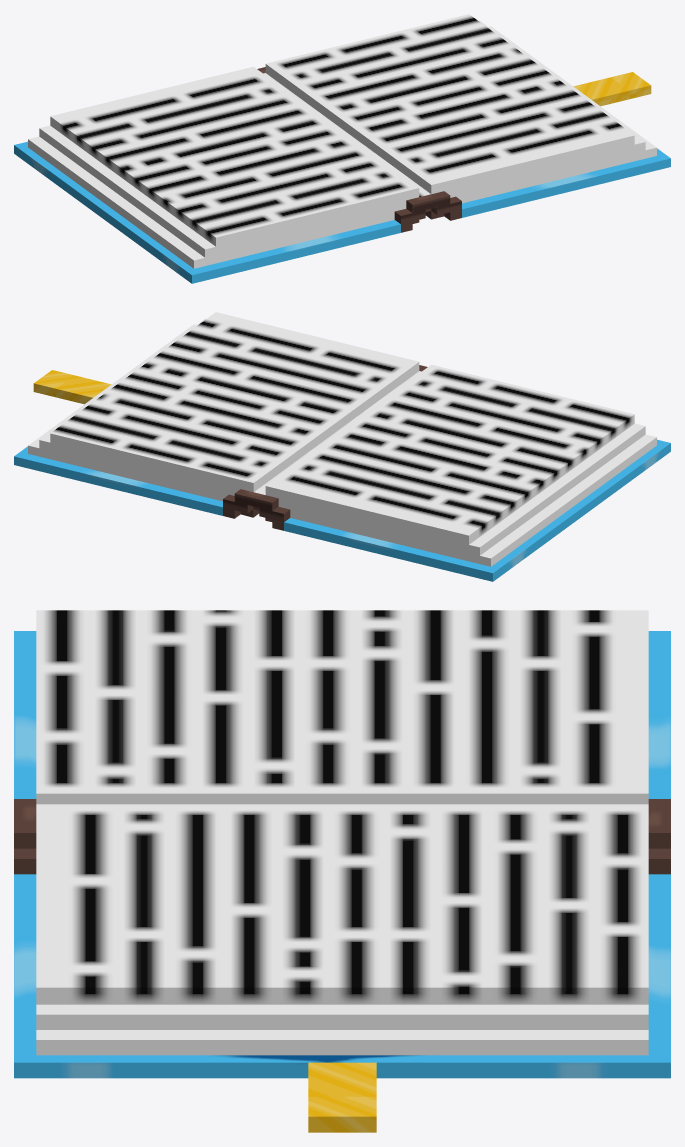
File: journal_finalized.fbx
The picture shows the model from 3 angles, top to bottom: view 1: azimuth 30°, elevation 25°; view 2: azimuth 150°, elevation 25°; view 3: azimuth 270°, elevation 25°; orthographic projection. The views are drawn at different scales.
Visible parts, largest first — view 1: Book; view 2: Book; view 3: Book.
Part boxes in pixels (left/top/right/bottom): Book: left=14, top=14, right=670, bottom=283; Book: left=14, top=312, right=670, bottom=581; Book: left=14, top=610, right=670, bottom=1132.
Size of the model in its own units: 387 by 23.67 by 221.
4 materials, 4 textured.
